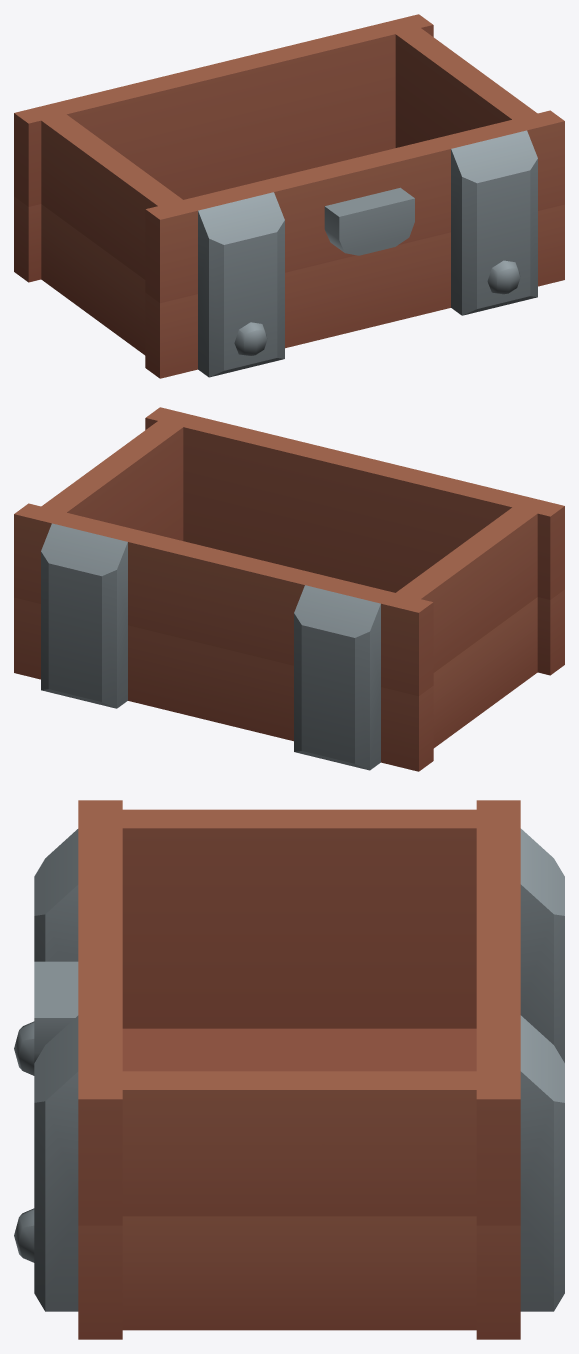
File: chest.obj
3 renders of one model, top to bottom at view 1: azimuth 30°, elevation 25°; view 2: azimuth 150°, elevation 25°; view 3: azimuth 270°, elevation 25°, orthographic. The views are drawn at different scales.
Visible parts, largest first — view 1: chest; view 2: chest; view 3: chest.
Boxes of the visible parts, left/top/right/bottom form: chest: left=14, top=14, right=564, bottom=378; chest: left=14, top=407, right=564, bottom=771; chest: left=14, top=800, right=564, bottom=1339.
Size of the model in its own units: 1.6 by 0.6 by 1.25.
1 material, 1 textured.
